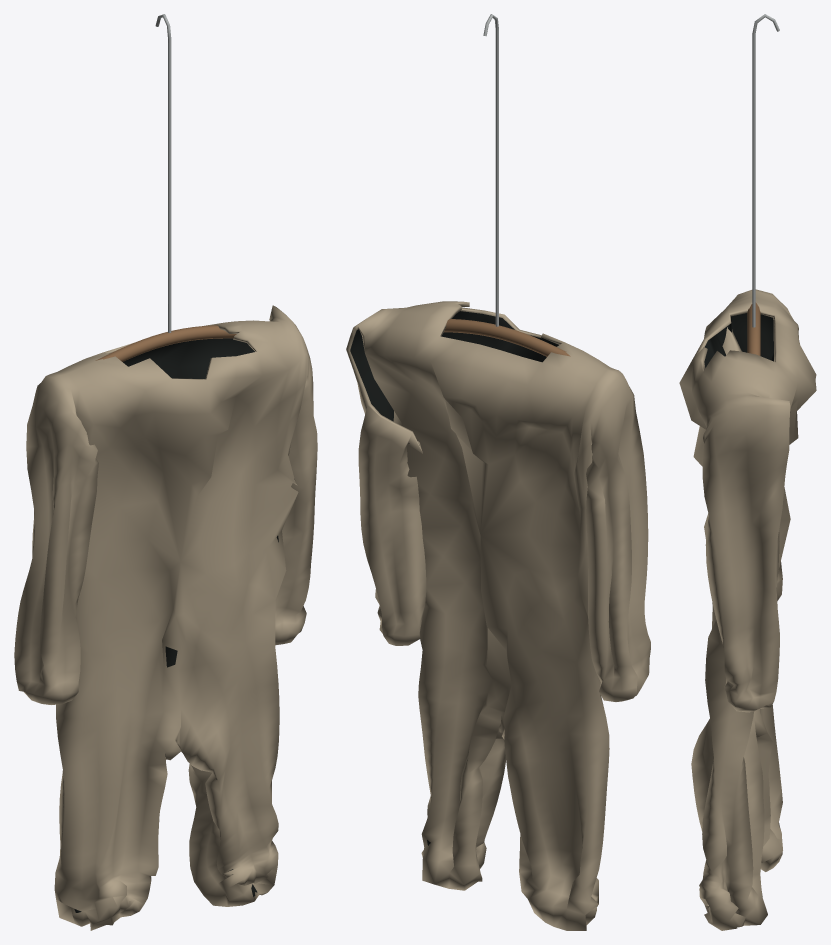
The model's file is hanging-suit-a.glb.
3 views of the same model, side by side, from view 1: azimuth 30°, elevation 25°; view 2: azimuth 150°, elevation 25°; view 3: azimuth 270°, elevation 25° (orthographic).
Parts seen in each view (by area): view 1: Suit, HangerArm, HangerHook; view 2: Suit, HangerArm, HangerHook; view 3: Suit, HangerHook, HangerArm.
Boxes of the visible parts, left/top/right/bottom form: Suit: left=14, top=305, right=317, bottom=930; HangerArm: left=95, top=325, right=236, bottom=361; HangerHook: left=155, top=14, right=171, bottom=332; Suit: left=346, top=301, right=650, bottom=930; HangerArm: left=444, top=319, right=570, bottom=356; HangerHook: left=483, top=14, right=498, bottom=326; Suit: left=679, top=289, right=816, bottom=930; HangerHook: left=752, top=14, right=779, bottom=327; HangerArm: left=747, top=302, right=760, bottom=355.
Bounding box in the file's own units: 0.8681 × 2.62 × 0.3688.
